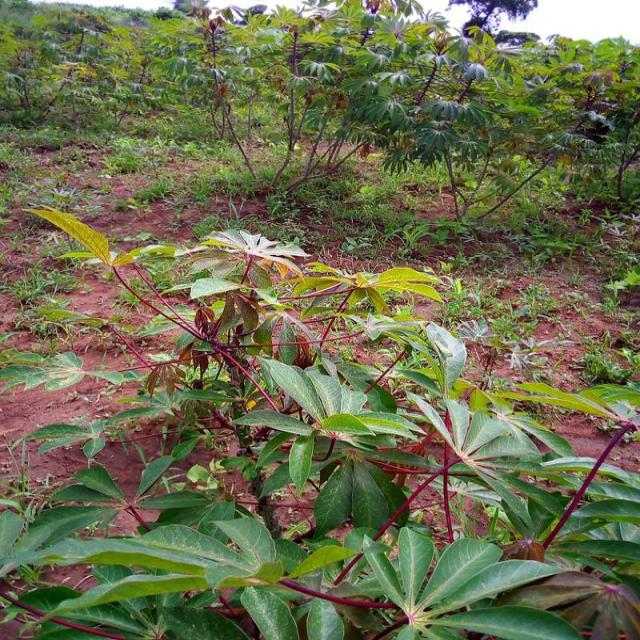cassava leaf: (4, 201, 638, 638), (21, 202, 110, 266)
